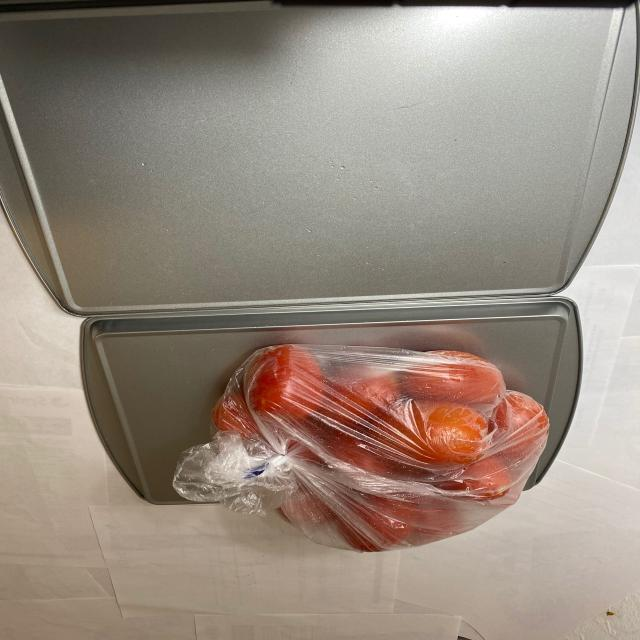tomato: (212, 352, 554, 554)
